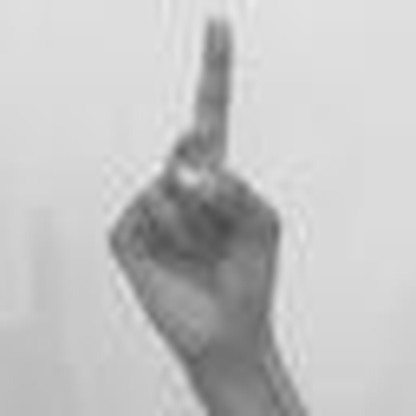d: (99, 8, 285, 348)
